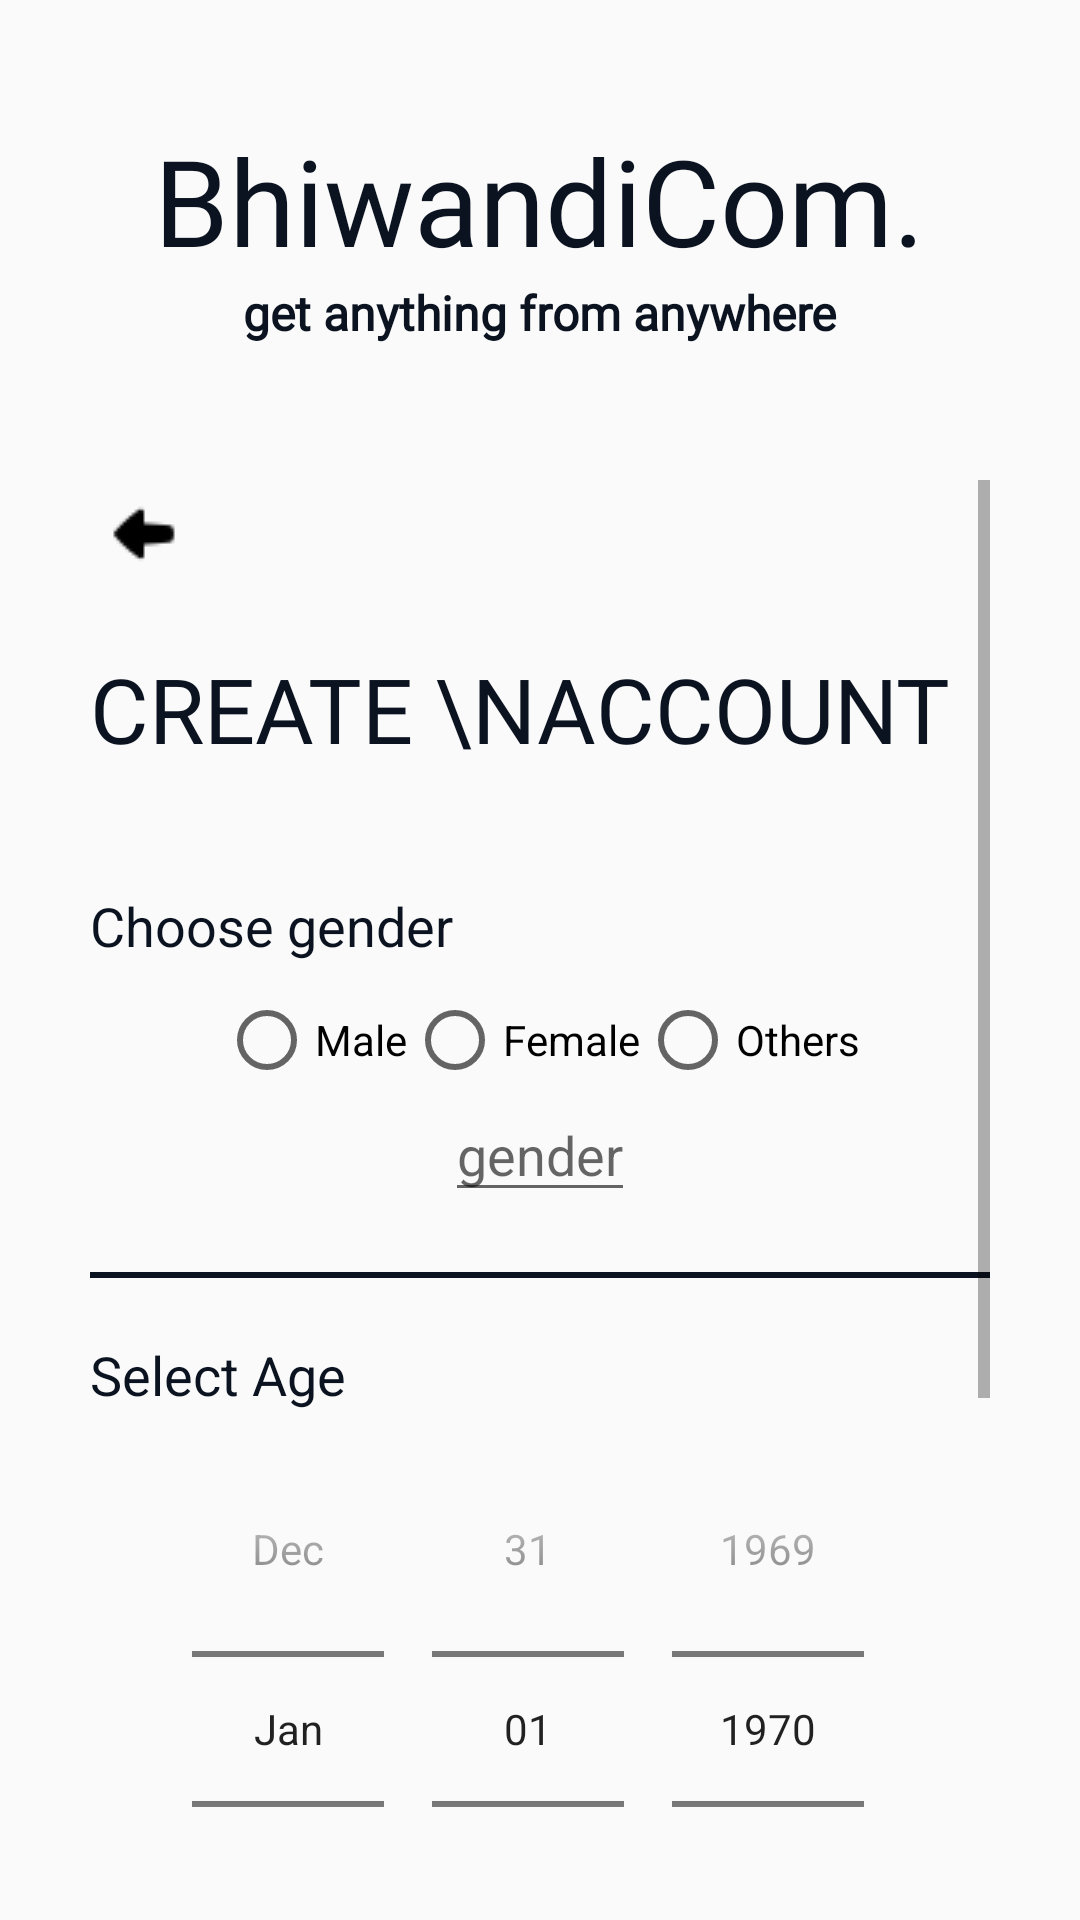

Icons on this 1080*1920 Android screen, each with the point to tap as [x,y]:
back: [144,533]
